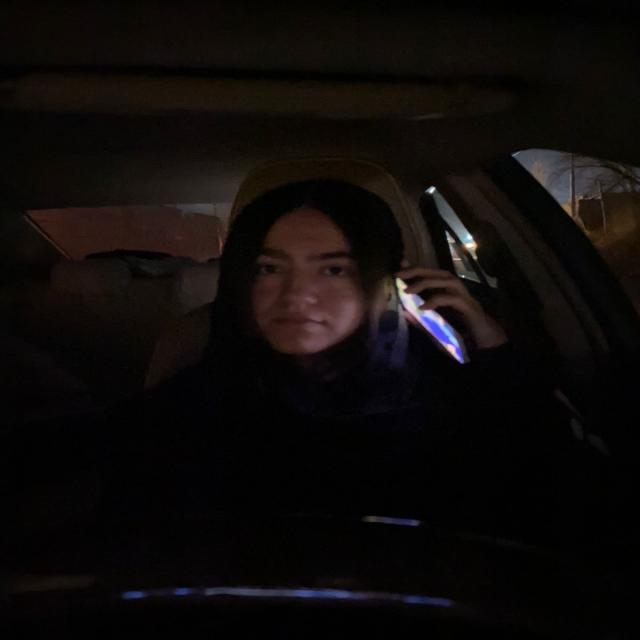person: (224, 188, 384, 362), (395, 280, 487, 377)
